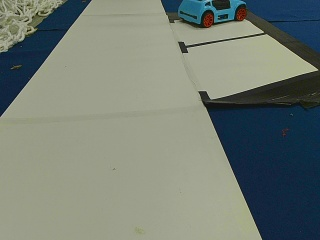car: (179, 1, 245, 26)
